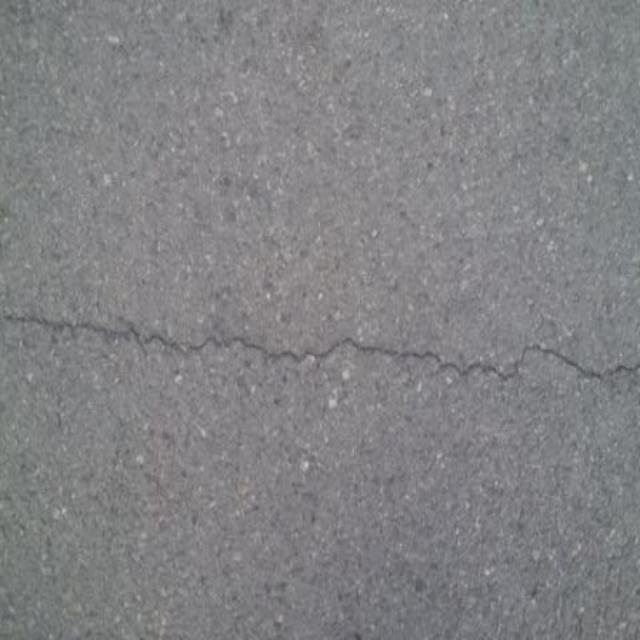GRIETA: (0, 312, 639, 380)
